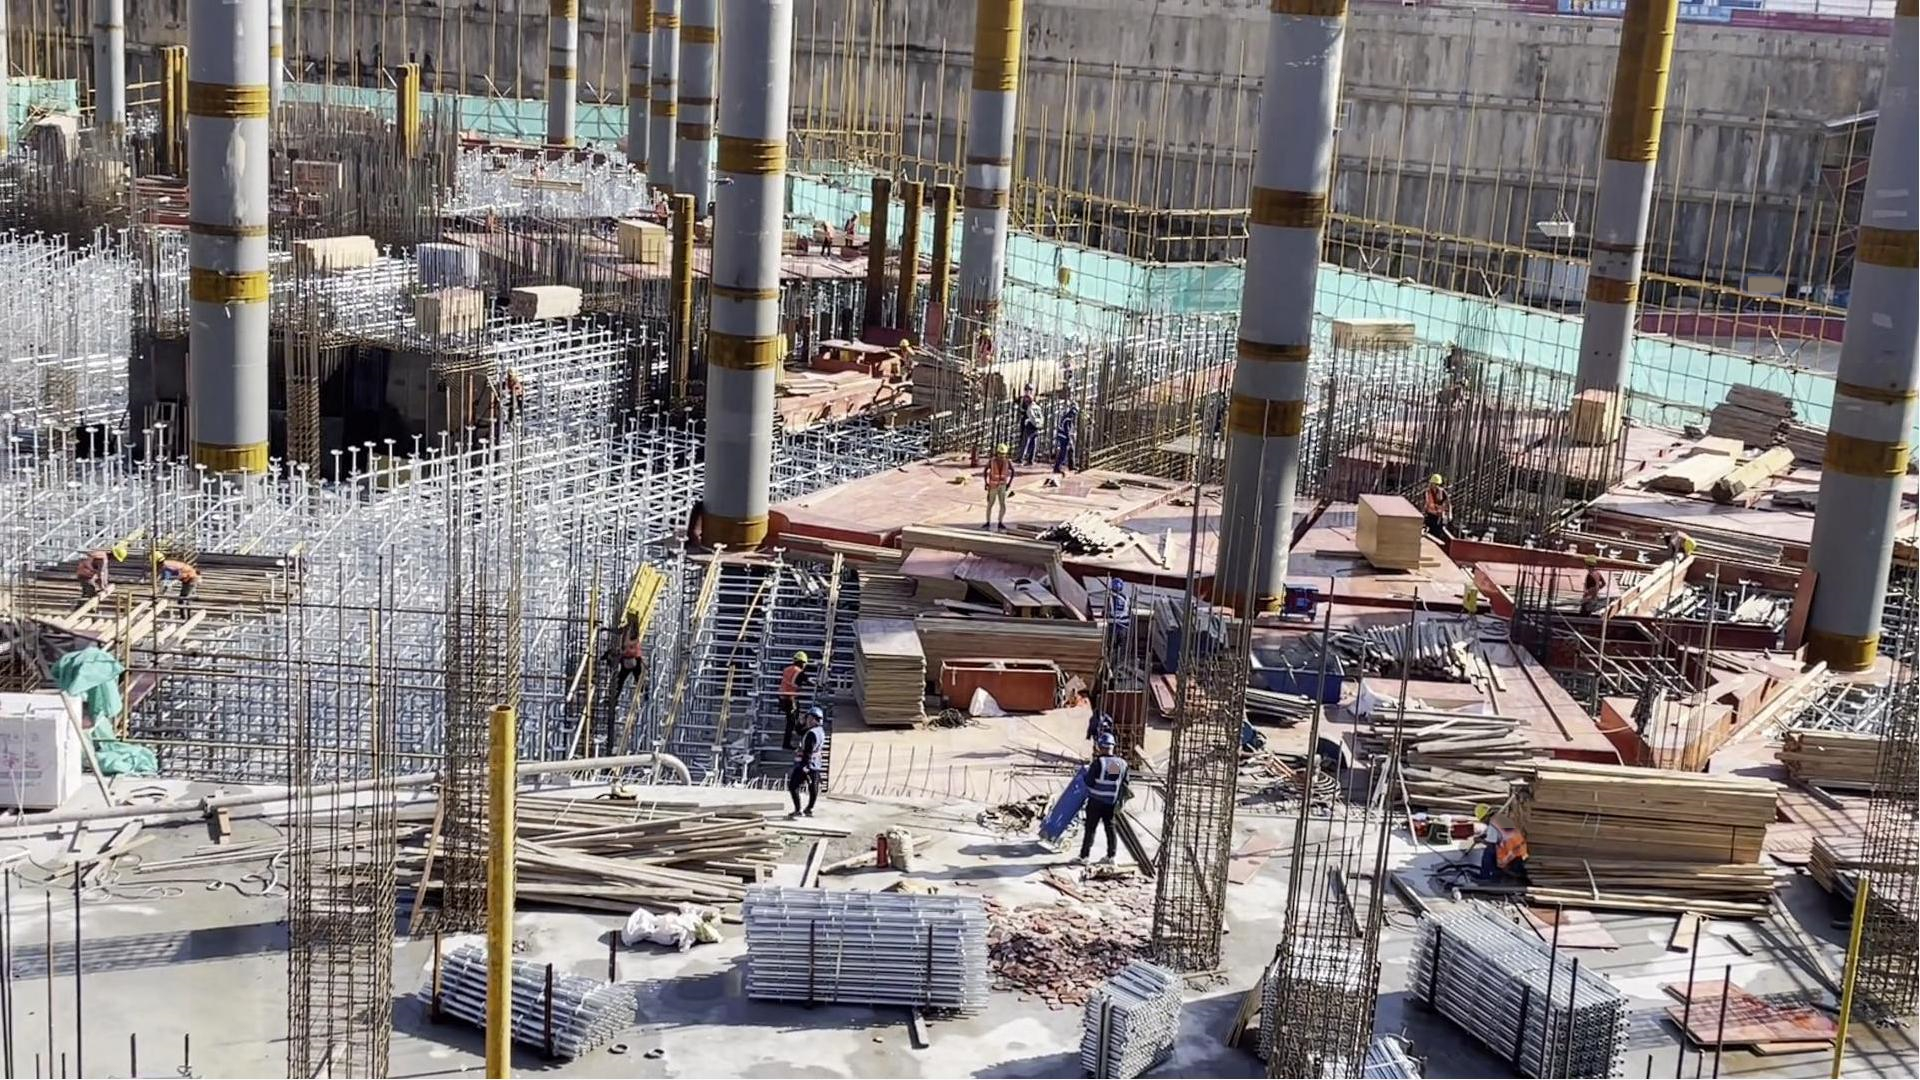board: (1658, 956, 1853, 1062), (849, 625, 927, 729), (1352, 495, 1423, 575), (396, 279, 481, 343), (900, 546, 962, 613), (1567, 386, 1625, 447), (620, 223, 670, 277)
cutter: (986, 569, 1071, 629), (811, 339, 901, 375)
ebox: (1458, 580, 1477, 624), (1054, 264, 1073, 300)
helmet: (1097, 728, 1118, 749), (1476, 801, 1493, 821), (1106, 577, 1127, 595), (111, 545, 128, 562), (790, 652, 808, 665), (807, 708, 823, 723), (149, 551, 164, 566), (994, 442, 1008, 455), (1023, 394, 1035, 407), (1069, 404, 1080, 418), (1022, 384, 1032, 392)
hopper: (1247, 642, 1348, 705)
person: (1073, 727, 1130, 868), (1467, 792, 1532, 895), (788, 709, 825, 816), (147, 546, 205, 609), (73, 543, 130, 600), (607, 601, 642, 693), (1099, 576, 1133, 671), (978, 441, 1013, 532), (773, 649, 814, 714), (1574, 554, 1607, 627), (1053, 401, 1080, 477), (1014, 397, 1042, 470), (1424, 472, 1452, 545), (1663, 526, 1699, 559), (1011, 382, 1035, 418), (816, 219, 835, 262), (840, 211, 859, 255), (900, 336, 917, 381), (974, 329, 991, 371), (653, 192, 671, 226)
scaffold: (1414, 882, 1632, 1080), (748, 885, 993, 1020), (418, 936, 650, 1058), (1259, 933, 1389, 1068), (1074, 948, 1184, 1080), (1288, 1036, 1431, 1080)
vest: (1493, 825, 1529, 879), (1095, 758, 1125, 818), (801, 730, 824, 775), (75, 551, 104, 583), (778, 665, 801, 705), (618, 626, 643, 662), (163, 561, 198, 586), (1110, 595, 1131, 628), (987, 457, 1008, 488), (1055, 415, 1073, 447), (1027, 405, 1044, 435)
wood: (1517, 752, 1785, 910), (465, 751, 732, 871), (1374, 705, 1538, 819), (915, 617, 1097, 680), (1032, 503, 1181, 561), (1788, 730, 1887, 789), (285, 236, 388, 283), (1326, 317, 1421, 358), (506, 279, 582, 328)
